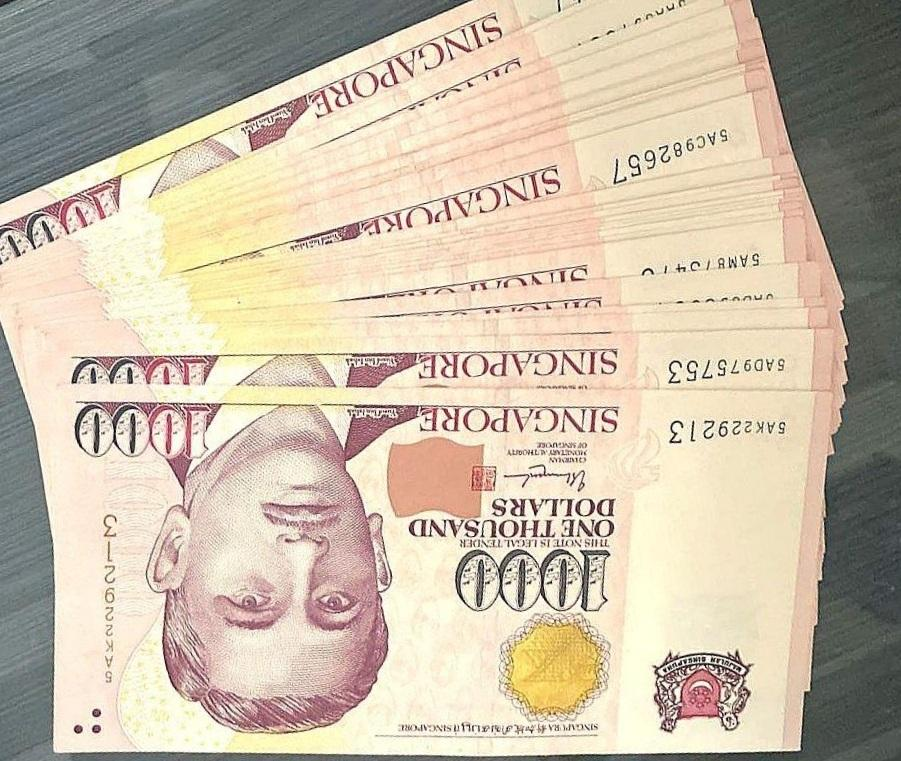1000SingaporeDollar: (61, 393, 800, 749)
